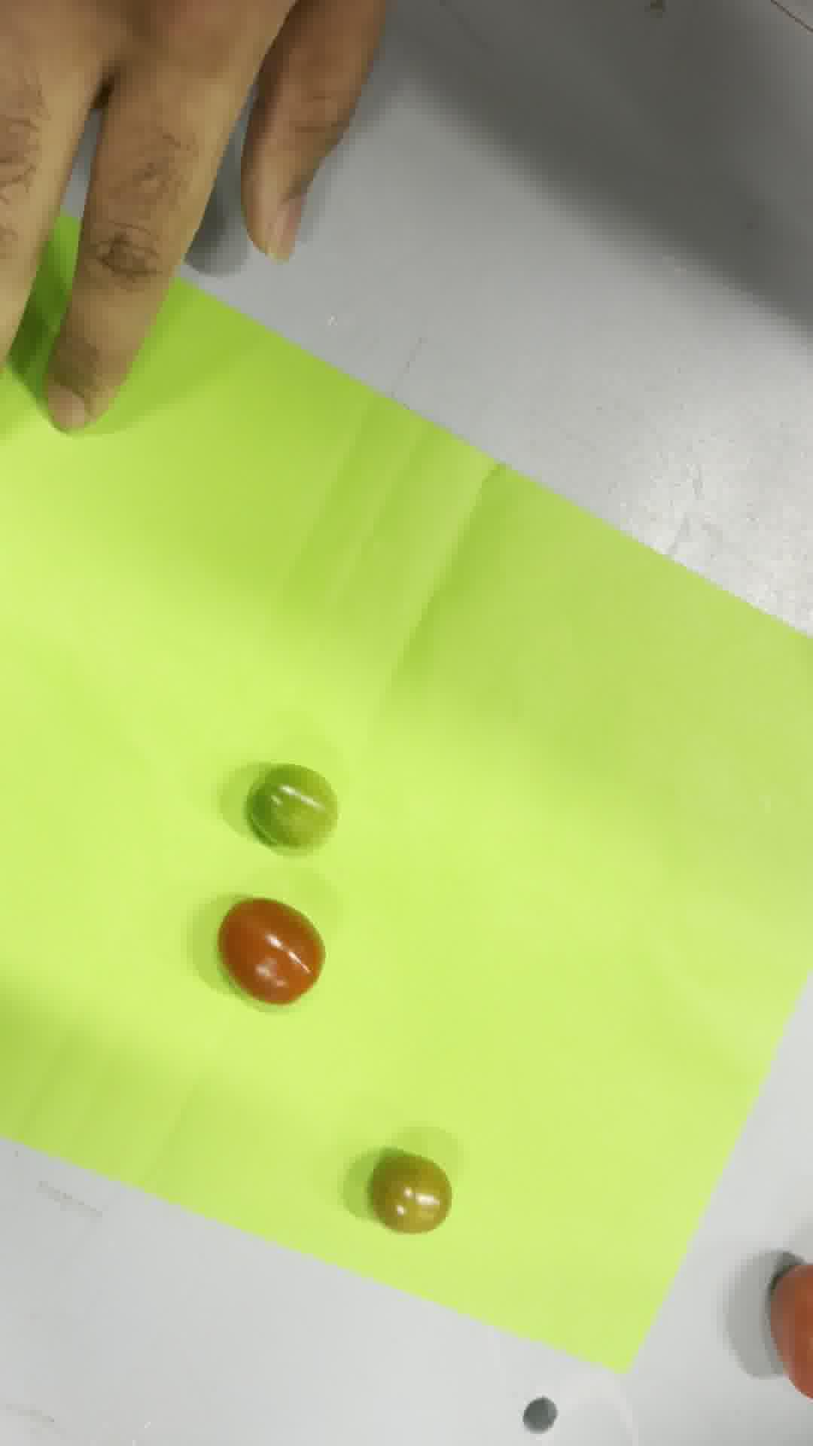green_cherry_tomato: (247, 764, 337, 851)
red_cherry_tomato: (218, 898, 324, 1005)
yellow_cherry_tomato: (367, 1150, 451, 1234)
